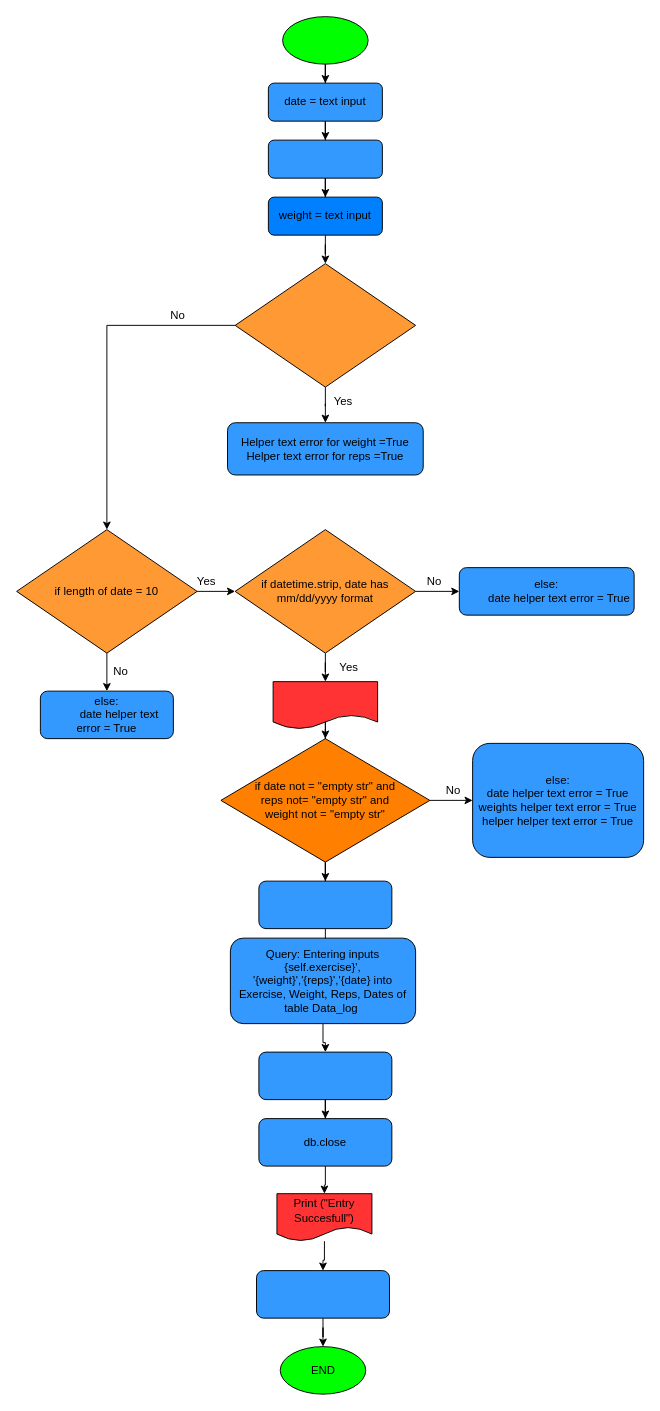
The diagram is 660 pixels wide and 1411 high, and some of its shapes have lost their labels. Here are the shapes that lost their labels. From the top down, the box of each, then its label:
(282, 16, 368, 64): Start
(267, 139, 382, 178): reps = text input
(234, 263, 416, 387): If weight = to "empty str and reps = to"empty str"
(272, 681, 378, 729): Valid Date
(258, 880, 392, 929): db = database_worker Logging_Info.db
(258, 1051, 392, 1100): db.run_save(query in database)
(256, 1270, 390, 1318): current page = Viewinfo
